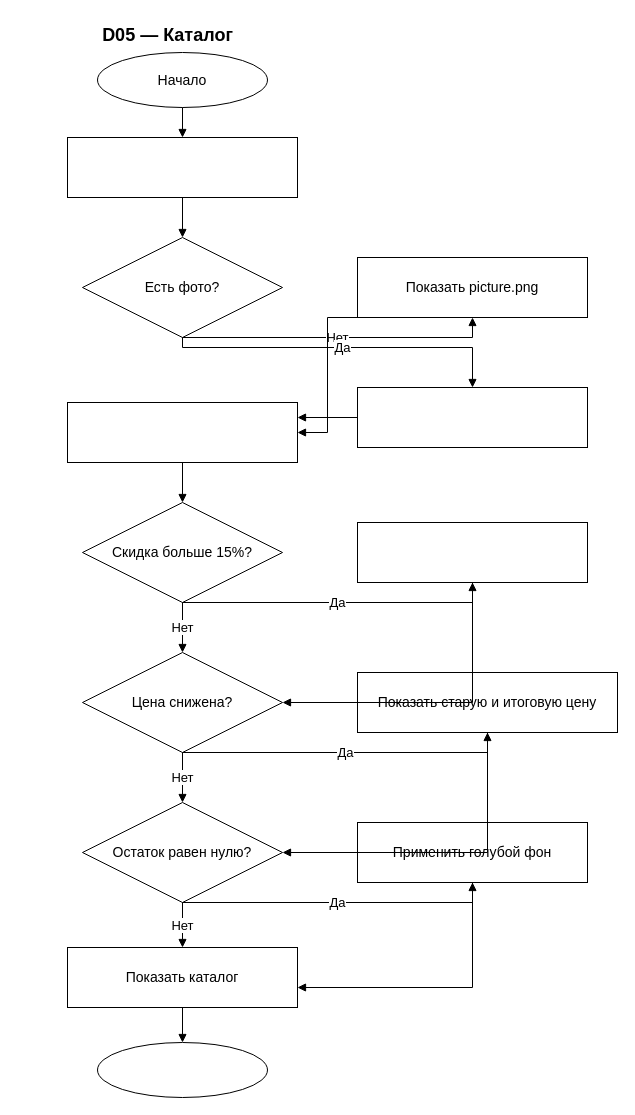
The diagram is 635 pixels wide and 1115 high, and some of its shapes have lost their labels. The shapes that lost their labels are listed below. From the top down, each one's box as (x1, y1, x2, y2) in pixels, then its label:
(66, 136, 298, 198): Получить товары из БД
(66, 402, 298, 462): Вывести остальные поля
(356, 386, 588, 448): Показать фото
(356, 522, 588, 582): Применить зелёный фон
(96, 1042, 268, 1098): Конец
